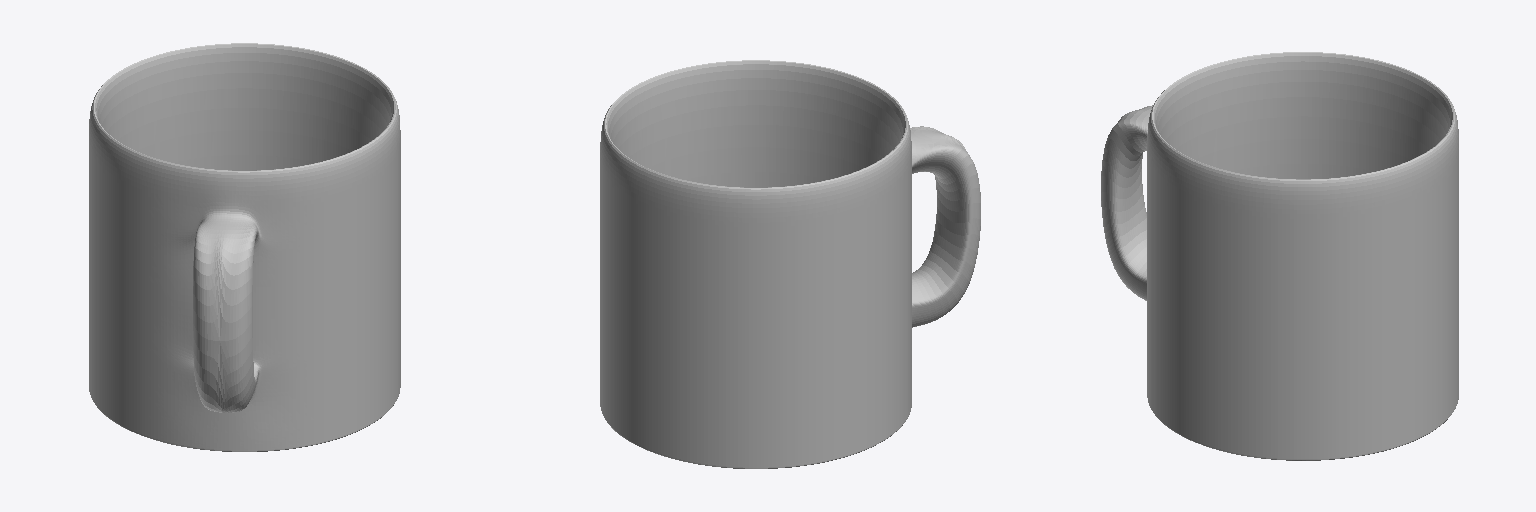
Rendered from mug.obj.
3 renders of one model, left to right at view 1: azimuth 30°, elevation 25°; view 2: azimuth 150°, elevation 25°; view 3: azimuth 270°, elevation 25°, orthographic.
Parts seen in each view (by area): view 1: tea_mug_Cylinder; view 2: tea_mug_Cylinder; view 3: tea_mug_Cylinder.
Boxes of the visible parts, x1=… form: tea_mug_Cylinder: x1=89, y1=43, x2=400, y2=451; tea_mug_Cylinder: x1=600, y1=60, x2=980, y2=468; tea_mug_Cylinder: x1=1101, y1=52, x2=1458, y2=460.
Size of the model in its own units: 0.0642 by 0.0637 by 0.0736.